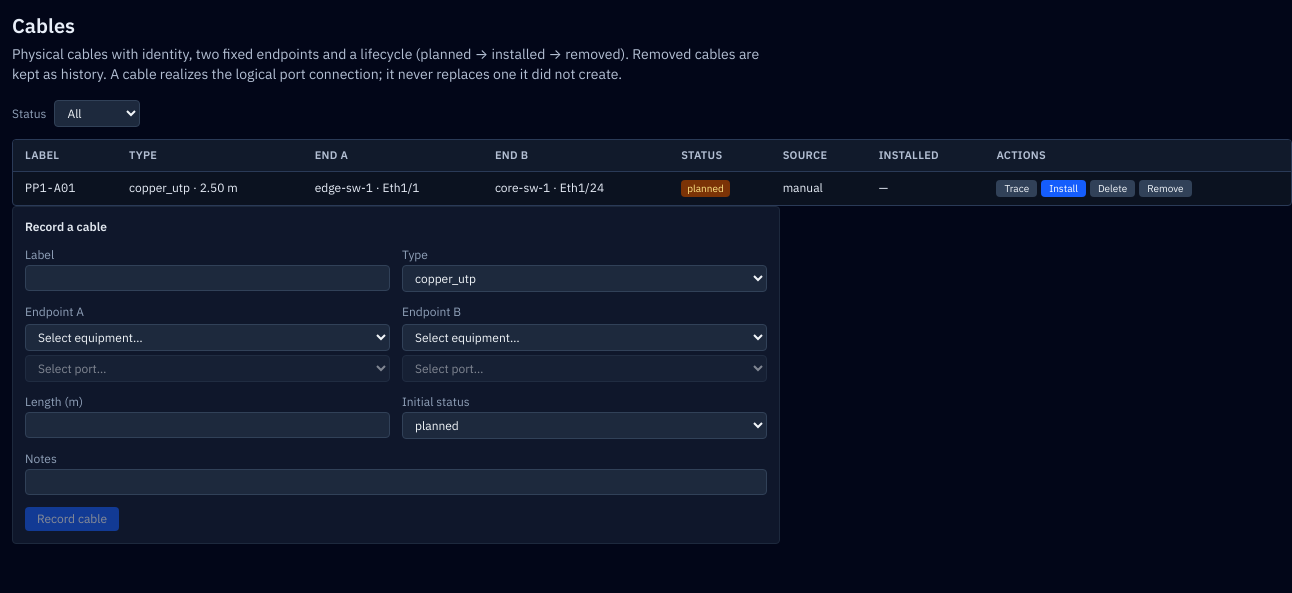
it: CablesPage › surfaces a server refusal
Step 1. Click the button with aria-label "Install cable PP1-A01" → (1064, 188), box [1041,180,1086,197]
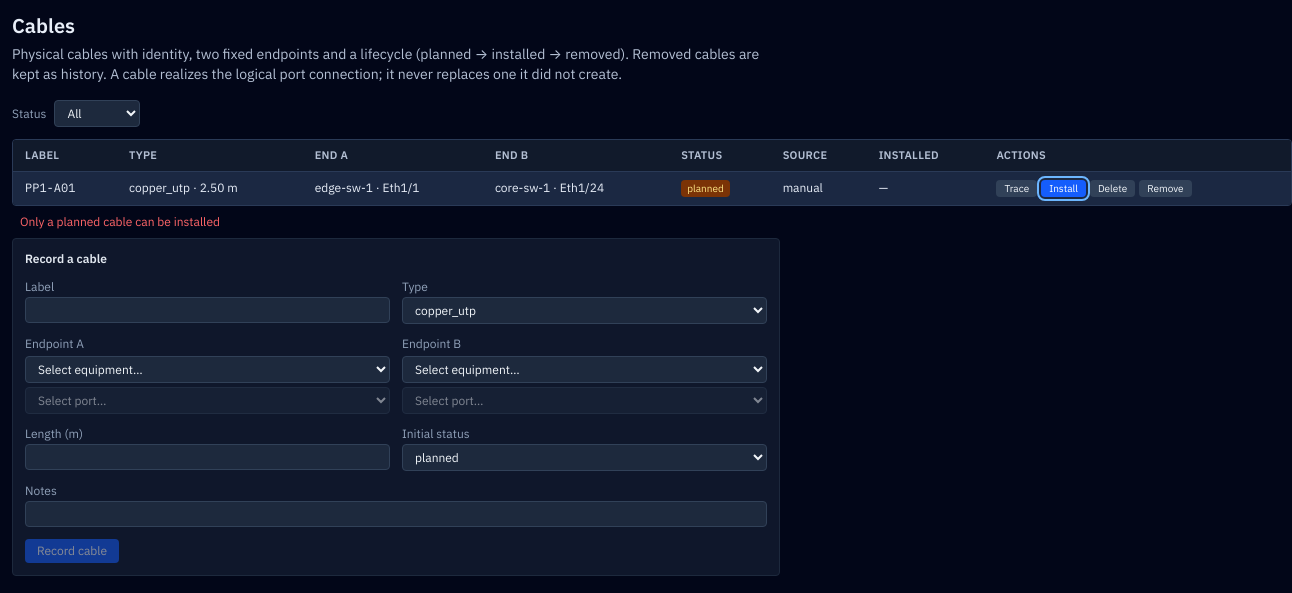
Result: the message shows "Only a planned cable" at [20,214,220,229]
